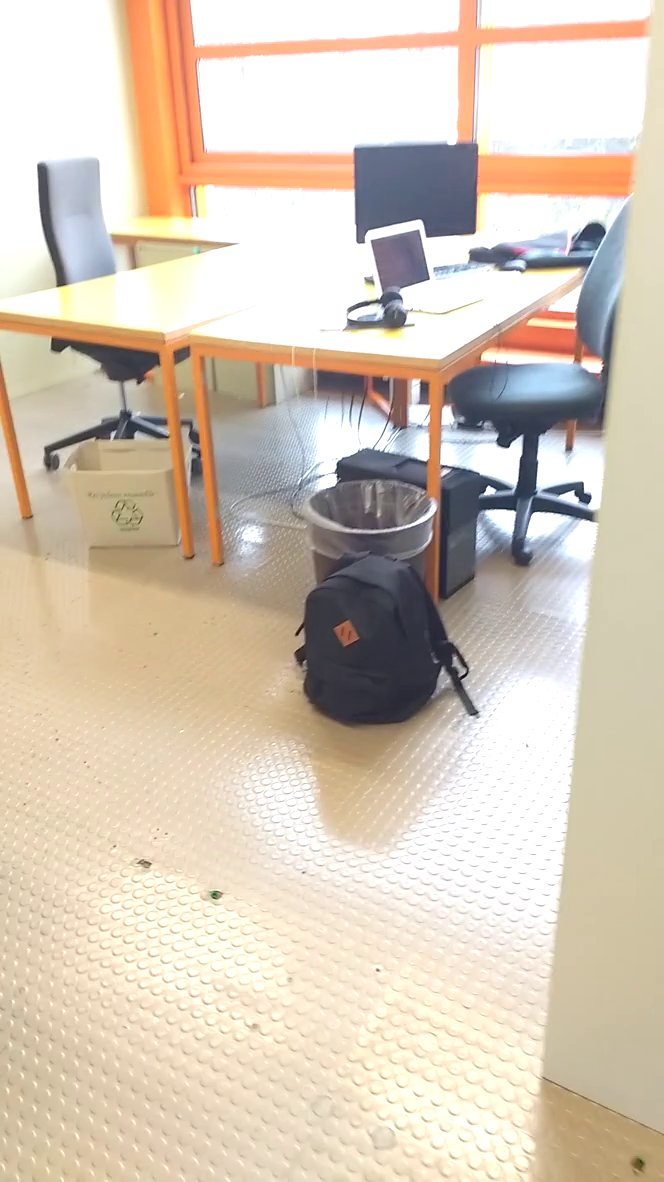bag: (282, 547, 481, 730)
bin: (302, 476, 455, 576)
box: (54, 430, 201, 563)
chair: (449, 180, 647, 564), (25, 146, 197, 423)
laptop: (360, 211, 493, 320)
